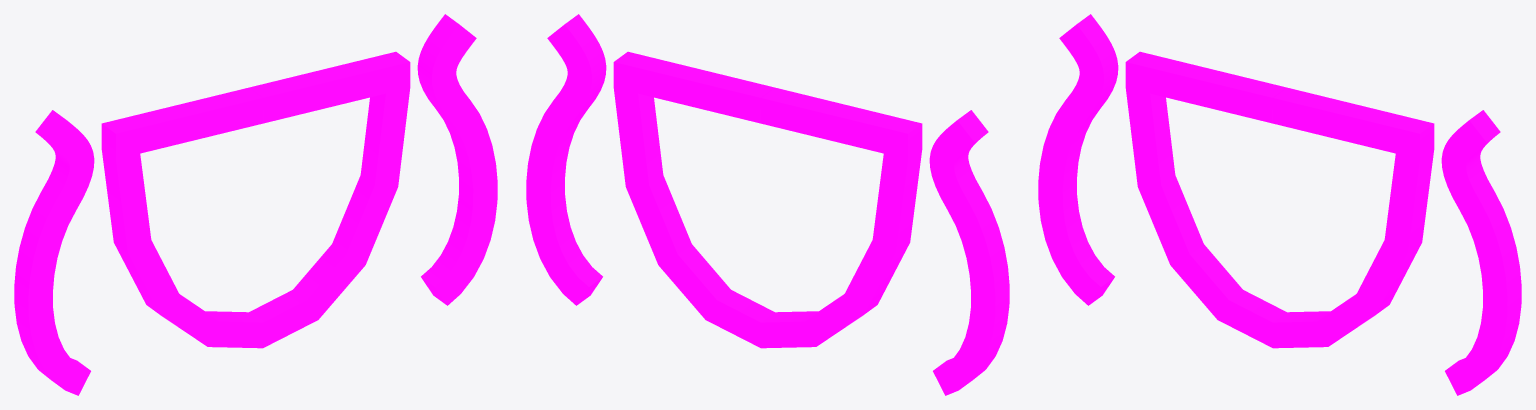
Rendered from Guardian.glb.
3 renders of one model, left to right at view 1: azimuth 30°, elevation 25°; view 2: azimuth 150°, elevation 25°; view 3: azimuth 330°, elevation 25°, orthographic.
Visible parts, largest first — view 1: Guardian; view 2: Guardian; view 3: Guardian.
Part boxes in pixels (x1,y1,x2,y2): Guardian: [14, 14, 497, 395]; Guardian: [526, 14, 1009, 395]; Guardian: [1038, 14, 1521, 395].
Size of the model in its own units: 1.91 by 1.09 by 0.1.
